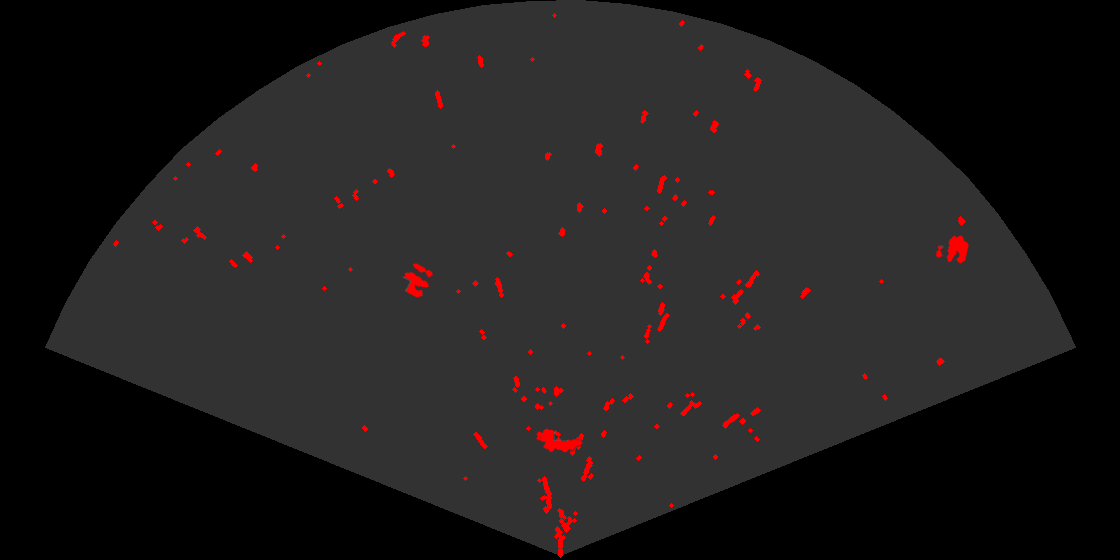AUV: (535, 427, 584, 453)
ball: (402, 262, 435, 299), (934, 234, 970, 265)
